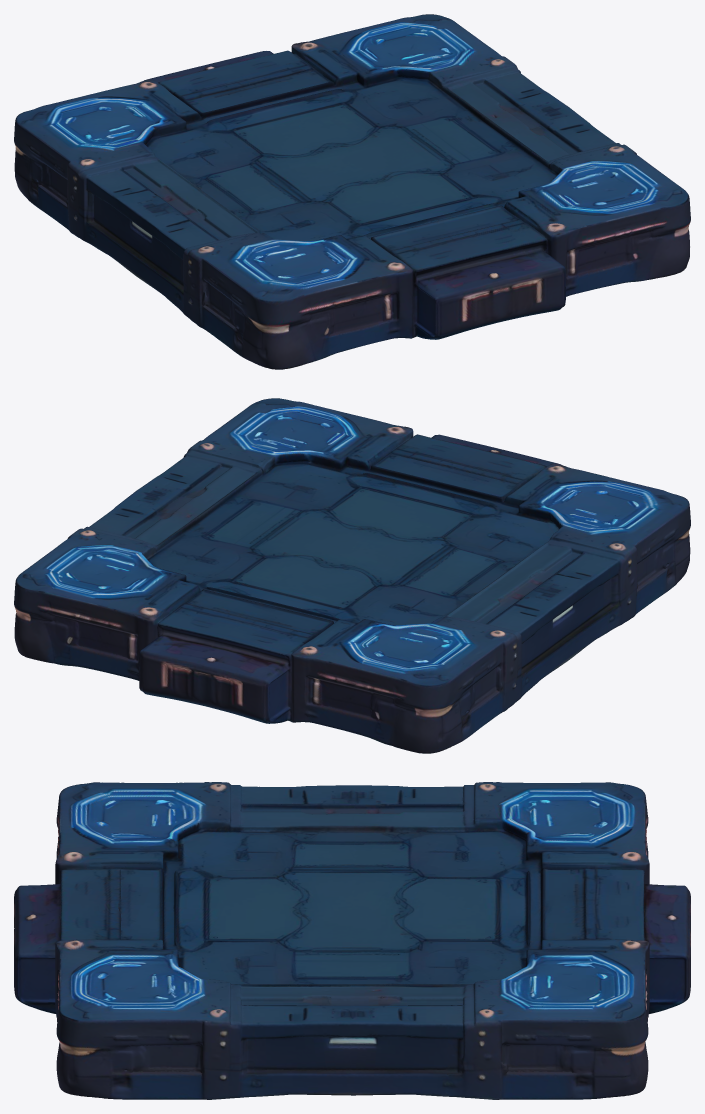
File: arena_cyber.glb
3 views of the same model, one above another, from view 1: azimuth 30°, elevation 25°; view 2: azimuth 150°, elevation 25°; view 3: azimuth 270°, elevation 25° (orthographic). The views are drawn at different scales.
Parts seen in each view (by area): view 1: tripo_node_0ba2f5dd-a06f-4136-b8f4-c03bb476c165; view 2: tripo_node_0ba2f5dd-a06f-4136-b8f4-c03bb476c165; view 3: tripo_node_0ba2f5dd-a06f-4136-b8f4-c03bb476c165.
Part boxes in pixels (left/top/right/bottom): tripo_node_0ba2f5dd-a06f-4136-b8f4-c03bb476c165: left=14, top=14, right=690, bottom=369; tripo_node_0ba2f5dd-a06f-4136-b8f4-c03bb476c165: left=14, top=398, right=690, bottom=753; tripo_node_0ba2f5dd-a06f-4136-b8f4-c03bb476c165: left=14, top=782, right=690, bottom=1099.
Bounding box in the file's own units: 0.8499 × 0.2678 × 1.
Materials: 1 (1 with a texture image).
